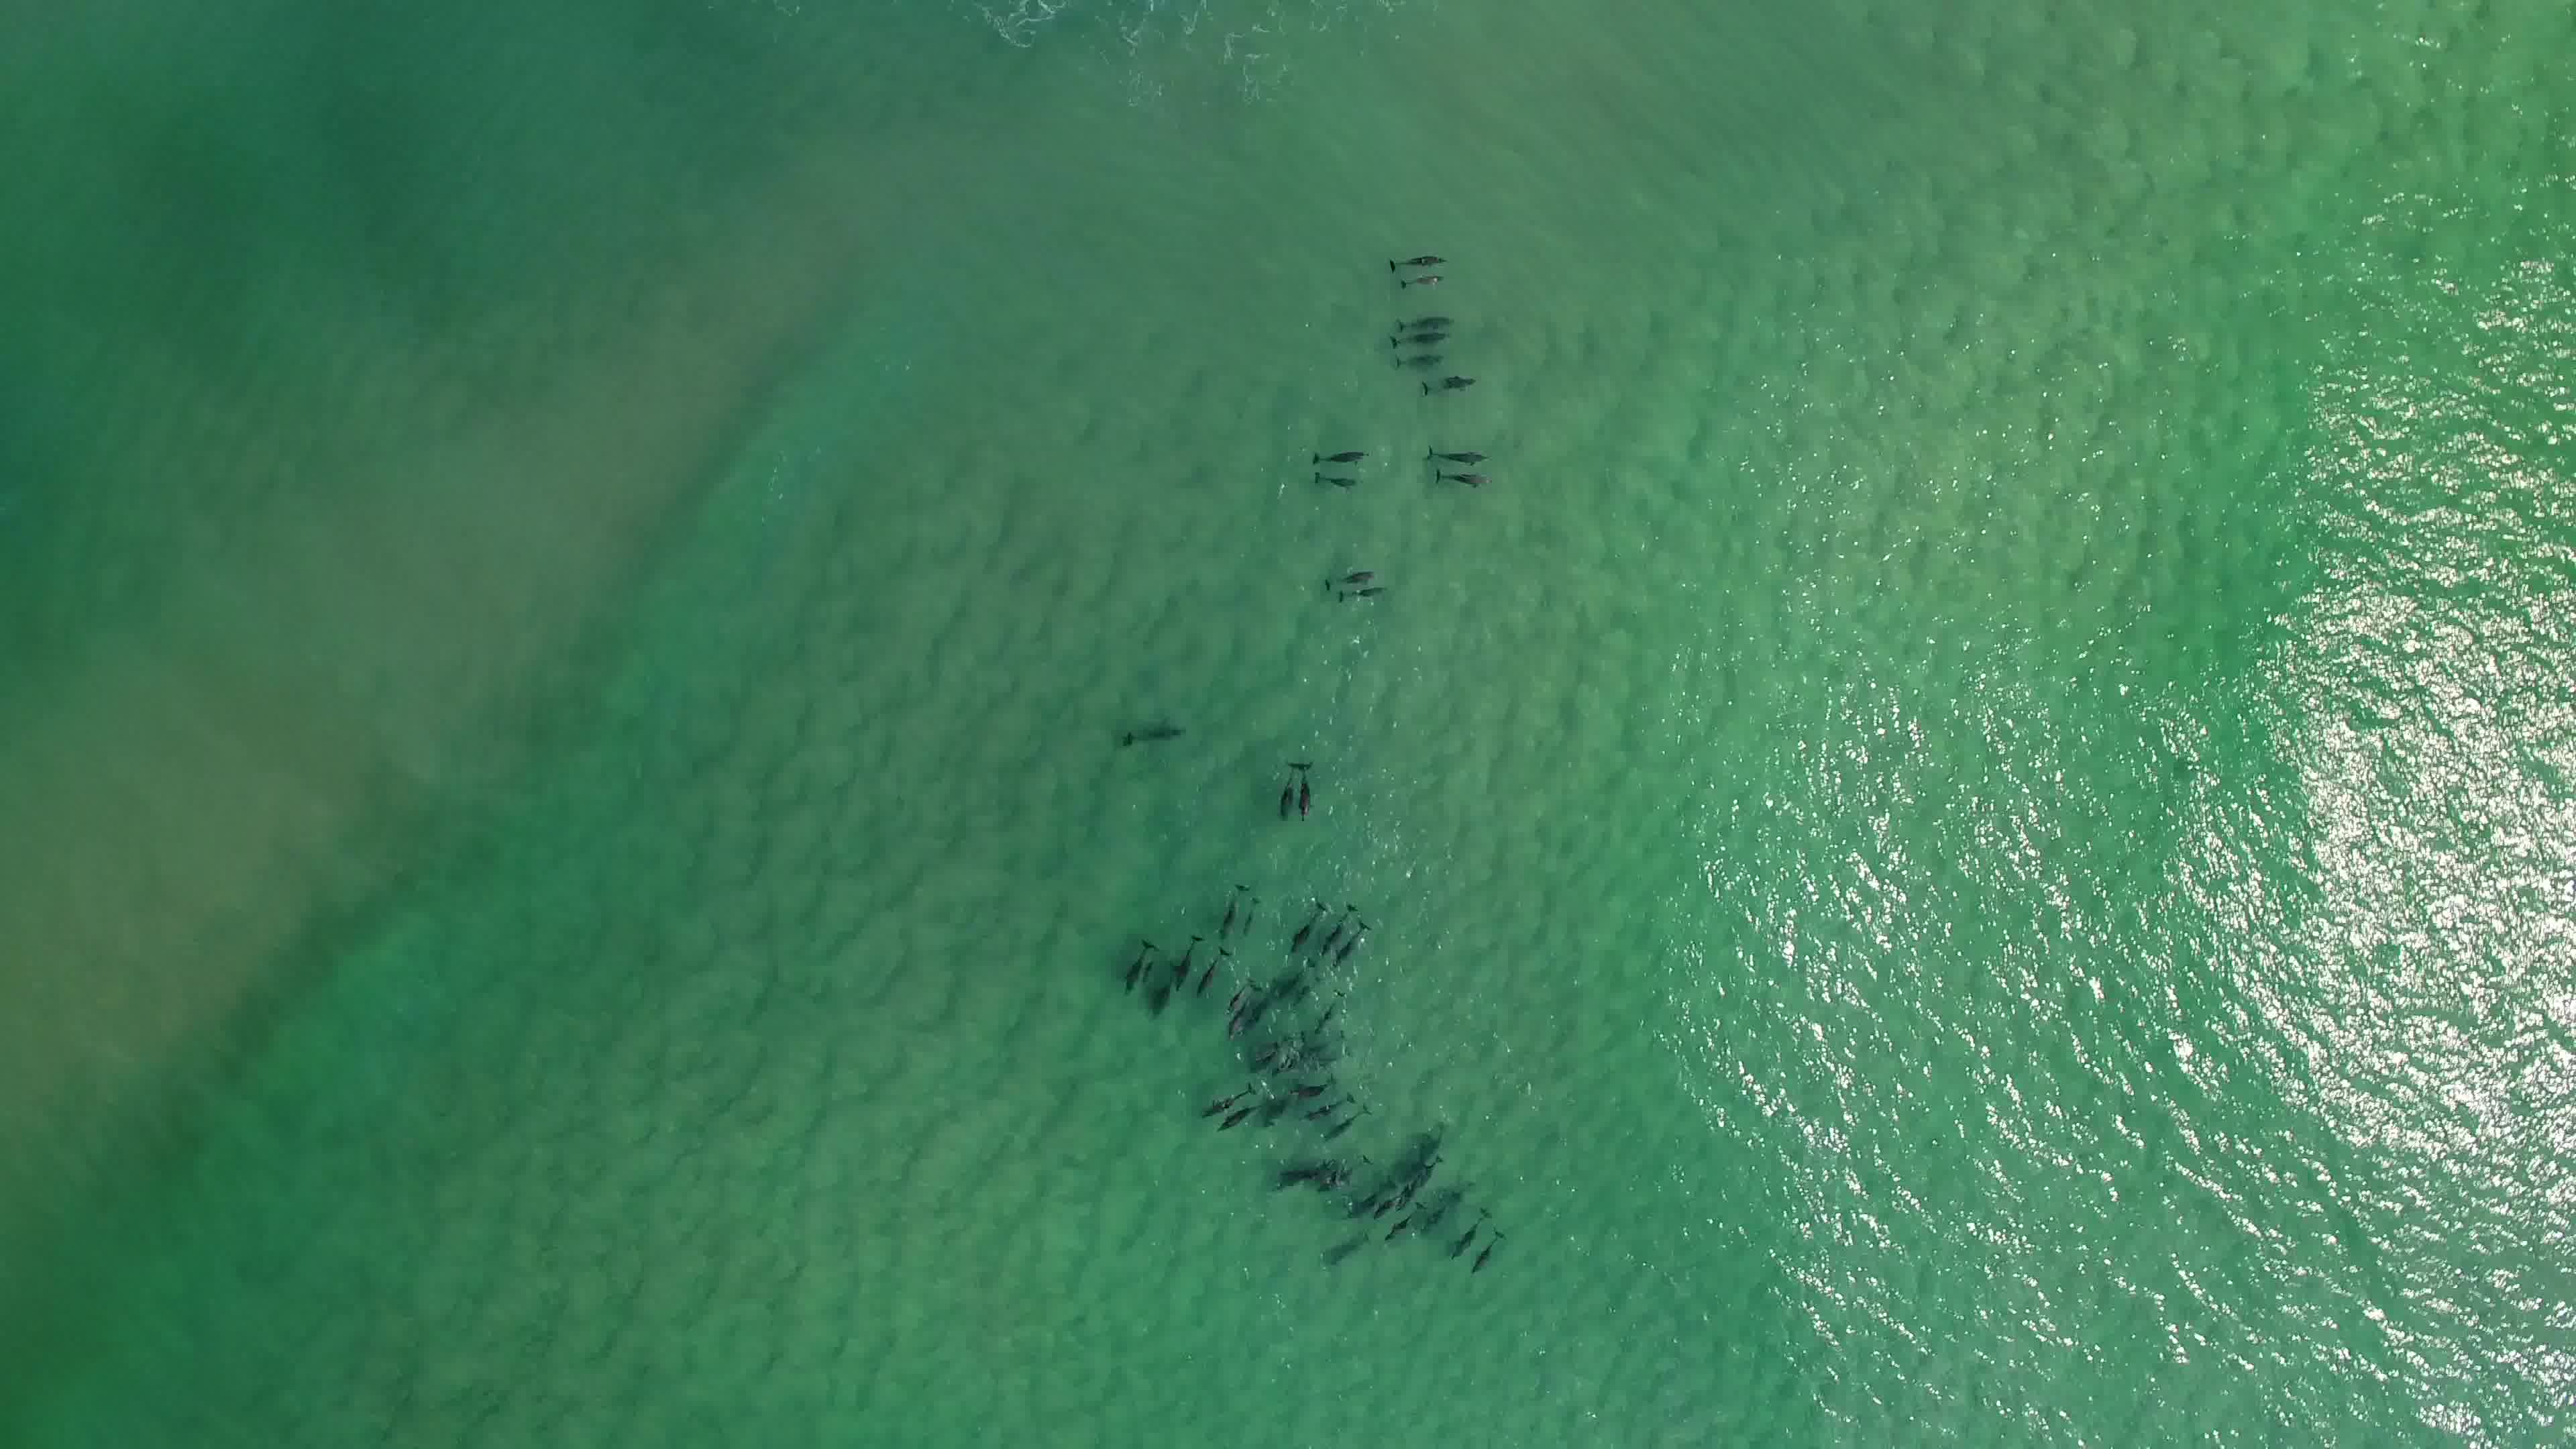dolphin: (1118, 931, 1155, 1000), (1465, 1230, 1516, 1272), (1424, 462, 1500, 490), (1426, 439, 1491, 469), (1412, 366, 1479, 395), (1392, 341, 1454, 372), (1203, 938, 1230, 1007), (1120, 720, 1187, 747), (1380, 242, 1445, 269), (1334, 577, 1391, 605), (1316, 1104, 1373, 1132), (1293, 750, 1315, 824), (1226, 987, 1258, 1035), (1323, 559, 1380, 586), (1191, 1081, 1247, 1108), (1311, 467, 1361, 497), (1297, 899, 1322, 959), (1343, 1185, 1392, 1215), (1316, 991, 1350, 1033), (1343, 918, 1366, 980), (1325, 899, 1348, 959), (1385, 308, 1456, 327), (1276, 1161, 1332, 1184), (1228, 872, 1246, 938), (1313, 448, 1364, 469), (1389, 327, 1449, 345), (1175, 931, 1191, 996), (1284, 757, 1299, 830), (1208, 1104, 1253, 1127), (1320, 1161, 1371, 1180), (1253, 1039, 1290, 1065), (1283, 1079, 1343, 1095), (1389, 274, 1453, 288), (1304, 1097, 1353, 1115), (1230, 970, 1246, 1024), (1399, 1177, 1426, 1200)
